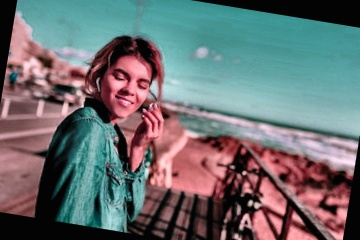earphone: (92, 71, 105, 93)
